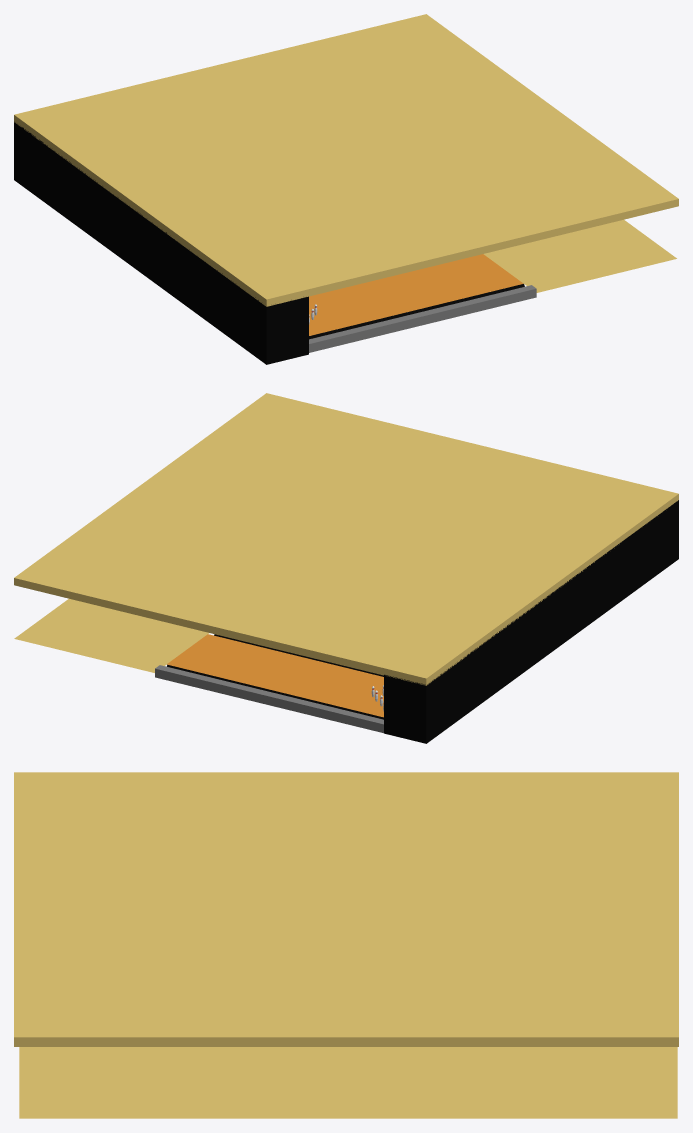
File: BowlingAlly.fbx
The picture shows the model from 3 angles, top to bottom: view 1: azimuth 30°, elevation 25°; view 2: azimuth 150°, elevation 25°; view 3: azimuth 270°, elevation 25°; orthographic projection. The views are drawn at different scales.
Parts seen in each view (by area): view 1: Cube, Cube.001, BowlingLane.005, Floor, Divider.006, BallCarryThing.010; view 2: Cube, Cube.001, BowlingLane.003, Floor, Divider.004, BallCarryThing.006; view 3: Cube, Floor.
Part boxes in pixels (<box>): Cube: <box>14,14,678,306</box>; Cube.001: <box>14,121,308,364</box>; BowlingLane.005: <box>309,254,523,335</box>; Floor: <box>483,219,676,292</box>; Divider.006: <box>309,285,536,352</box>; BallCarryThing.010: <box>309,284,524,339</box>; Cube: <box>14,393,678,685</box>; Cube.001: <box>384,500,678,743</box>; BowlingLane.003: <box>167,634,383,717</box>; Floor: <box>14,598,209,672</box>; Divider.004: <box>155,665,383,733</box>; BallCarryThing.006: <box>167,664,383,719</box>; Cube: <box>14,772,678,1046</box>; Floor: <box>19,1047,677,1118</box>.
Bounding box in the file's own units: 9776 × 1520 × 10356.
